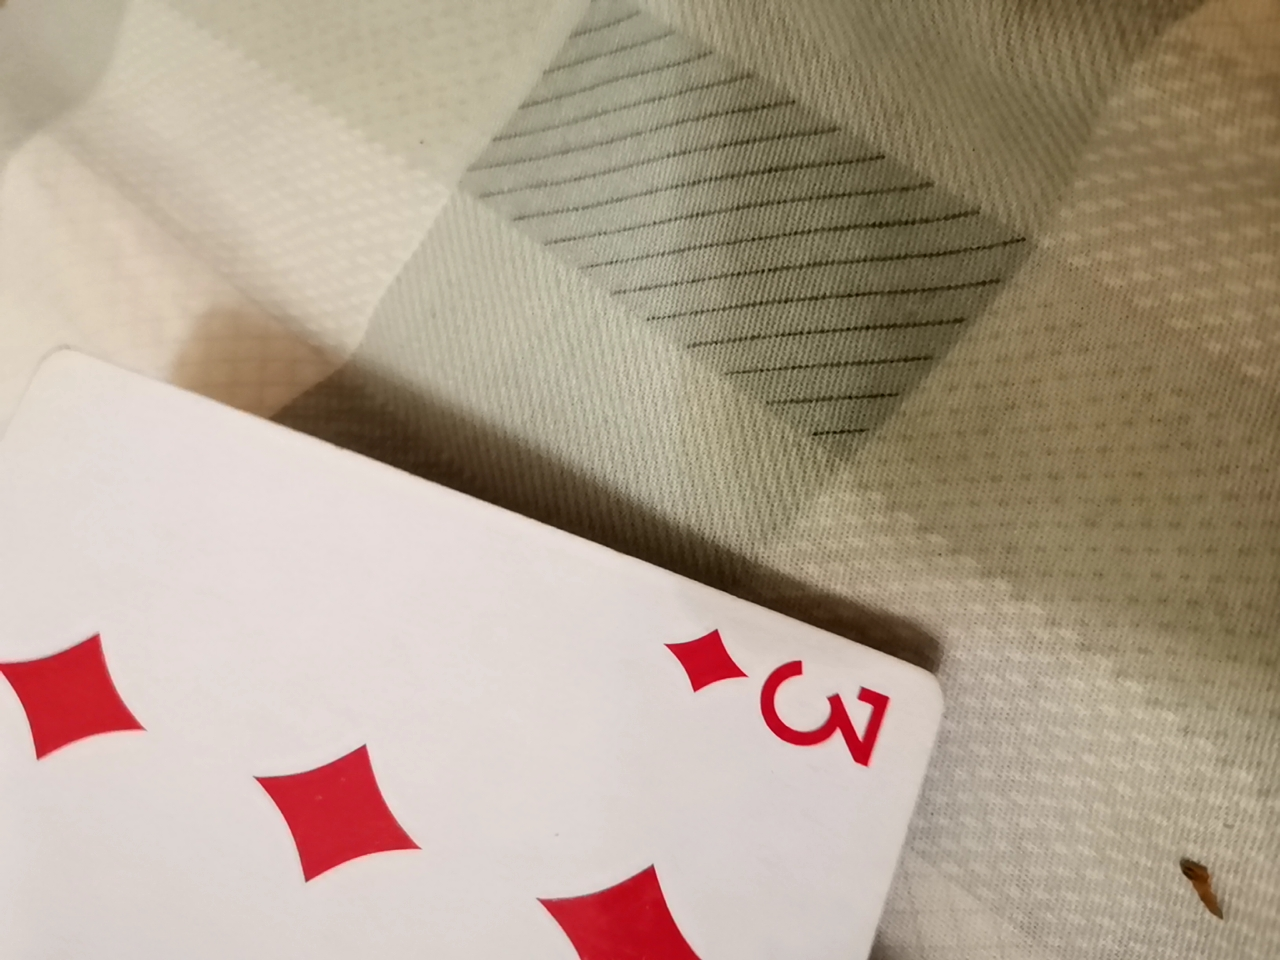fk 3: (9, 330, 975, 951)
